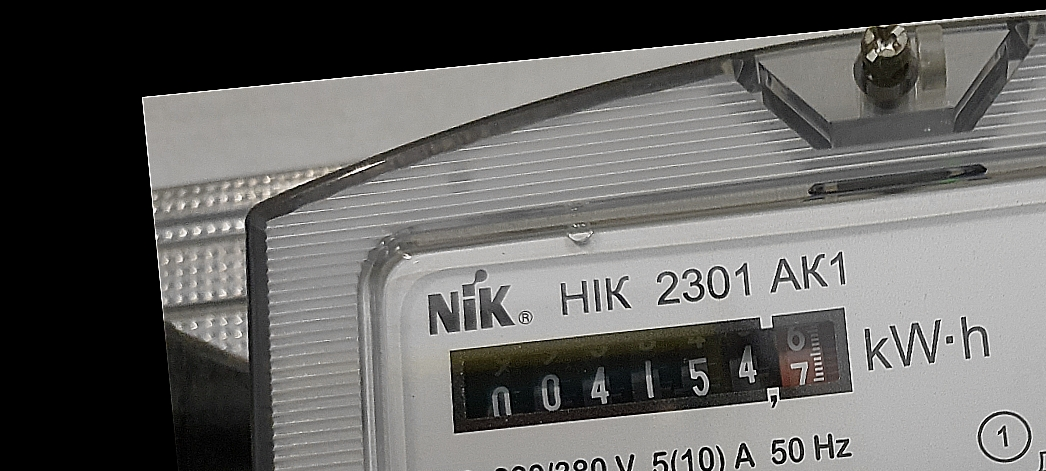0: (536, 370, 563, 413), (487, 380, 513, 417)
1: (640, 357, 657, 400)
4: (585, 363, 612, 406), (734, 340, 758, 386)
5: (685, 351, 713, 398)
6: (783, 321, 808, 352)
7: (787, 357, 810, 387)
screen: (428, 291, 871, 448)
